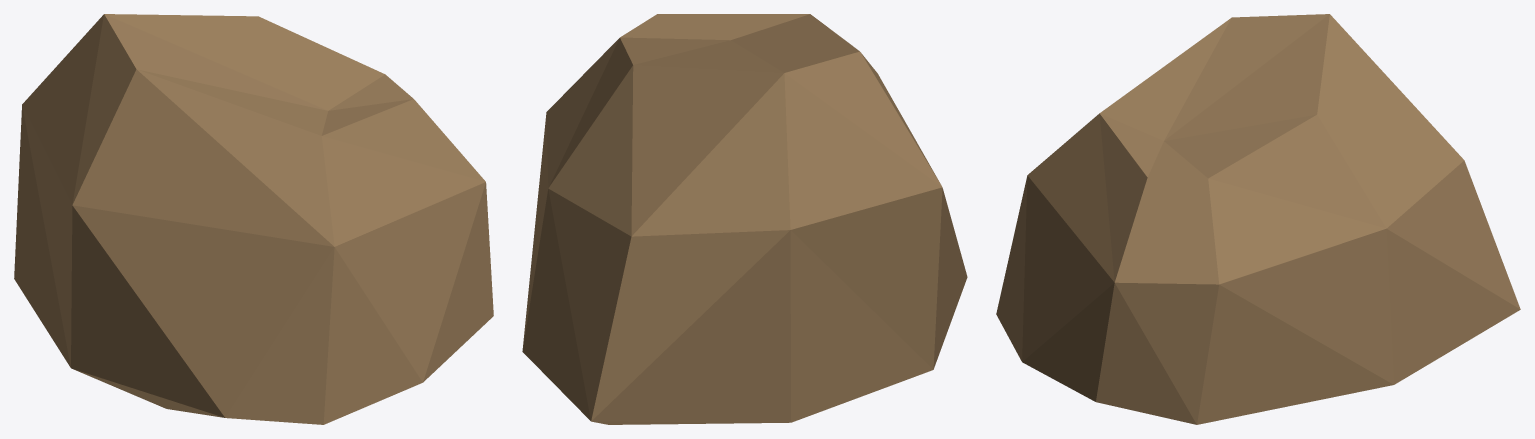
File: SM_Env_Rock_014.gltf
3 renders of one model, left to right at view 1: azimuth 30°, elevation 25°; view 2: azimuth 150°, elevation 25°; view 3: azimuth 270°, elevation 25°, orthographic. The views are drawn at different scales.
Visible parts, largest first — view 1: SM_Env_Rock_014; view 2: SM_Env_Rock_014; view 3: SM_Env_Rock_014.
Part boxes in pixels (x1,y1,x2,y2): SM_Env_Rock_014: (14,14,493,424); SM_Env_Rock_014: (522,14,967,424); SM_Env_Rock_014: (996,14,1520,424).
Bounding box in the file's own units: 0.4579 × 0.3824 × 0.5709.
Materials: 1 (1 with a texture image).
